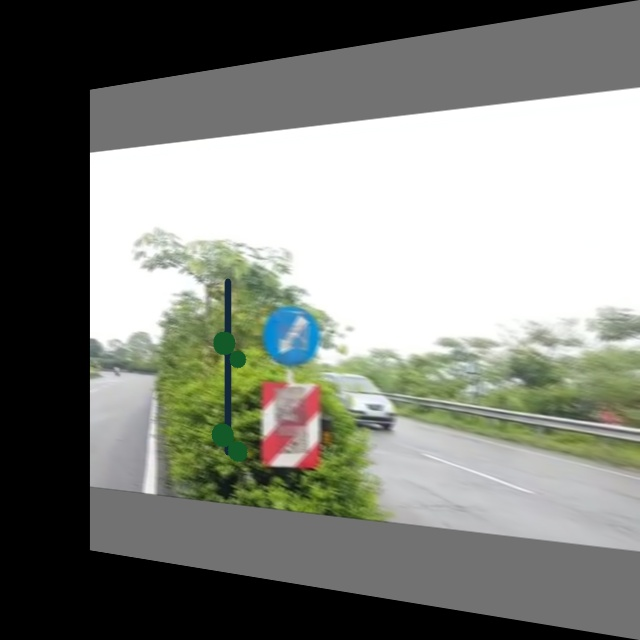Compulsory_Keep_Left: (257, 299, 326, 370)
